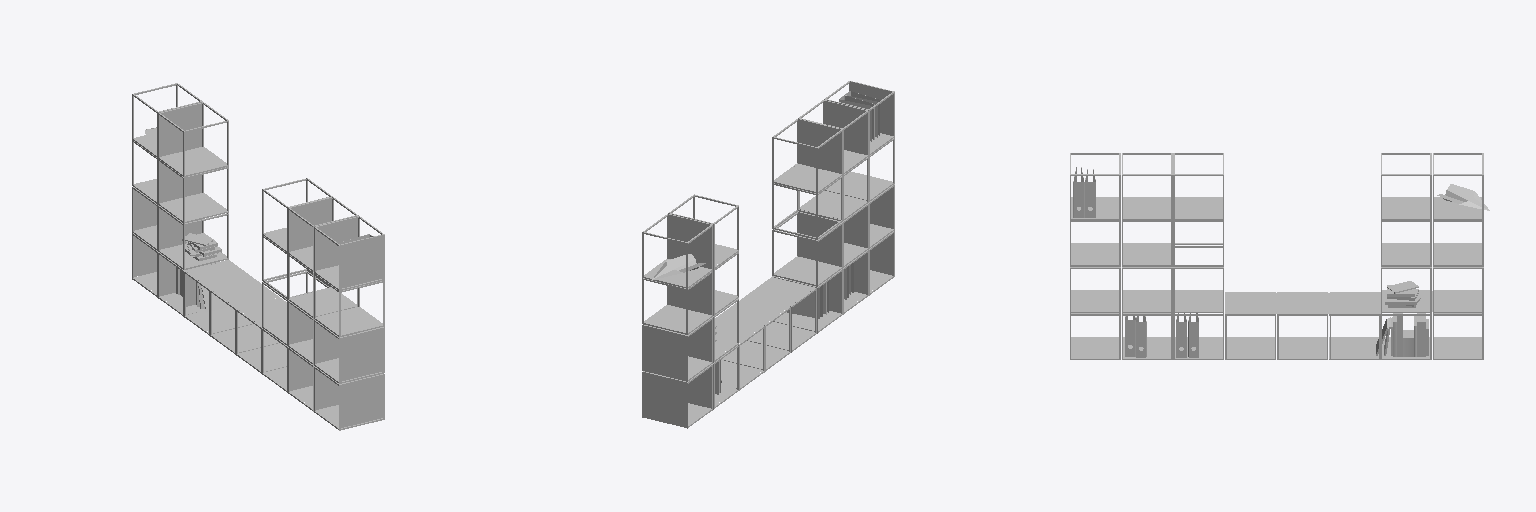
The model's file is path_obj_test_norway.obj.
The picture shows the model from 3 angles: view 1: azimuth 30°, elevation 25°; view 2: azimuth 150°, elevation 25°; view 3: azimuth 270°, elevation 25°; orthographic projection.
Visible parts, largest first — view 1: <STL_BINARY>; view 2: <STL_BINARY>; view 3: <STL_BINARY>.
Part boxes in pixels (x1,y1,x2,y2): <STL_BINARY>: (132, 83, 384, 430); <STL_BINARY>: (642, 81, 894, 428); <STL_BINARY>: (1070, 153, 1489, 359).
Size of the model in its own units: 0.4512 by 1.69 by 3.47.